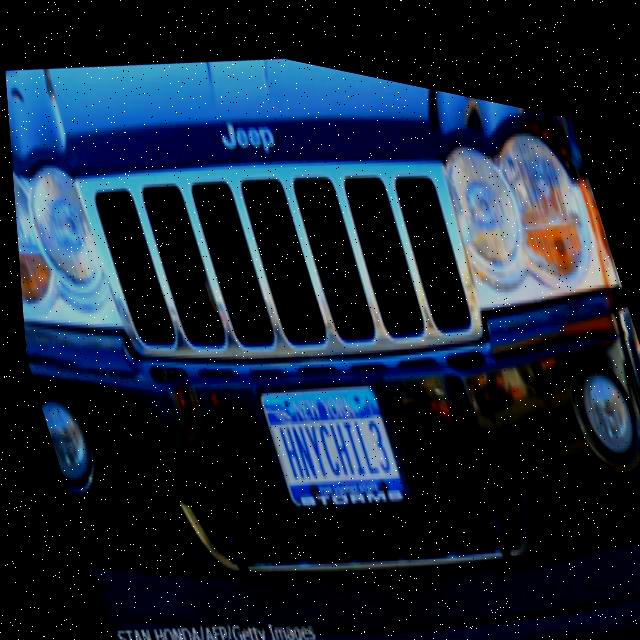license_plate: (248, 350, 409, 521)
